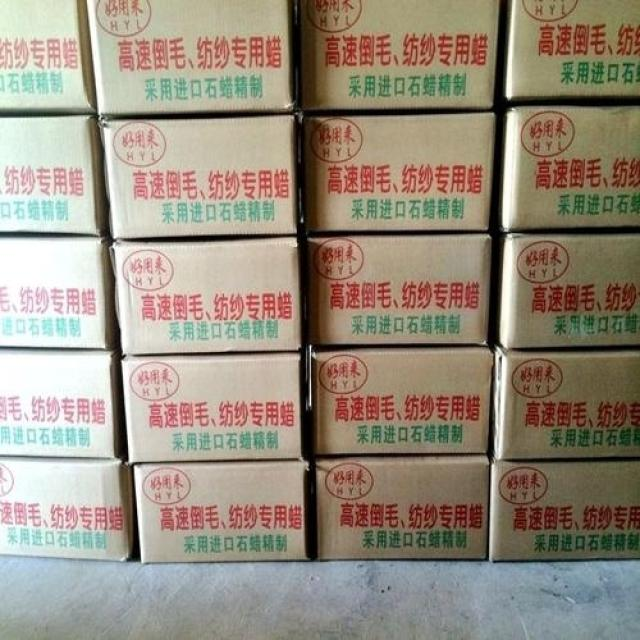box: (98, 117, 301, 240), (296, 113, 496, 235), (85, 1, 295, 114), (289, 1, 499, 113), (111, 237, 301, 354), (302, 234, 492, 347), (309, 347, 491, 460), (121, 356, 309, 461), (306, 454, 490, 561), (130, 461, 309, 563), (495, 108, 639, 234), (493, 229, 639, 351), (491, 347, 639, 462), (487, 456, 639, 561), (0, 351, 131, 463), (501, 0, 639, 106), (0, 115, 115, 239), (0, 456, 135, 561), (1, 234, 114, 351), (0, 3, 98, 113)
